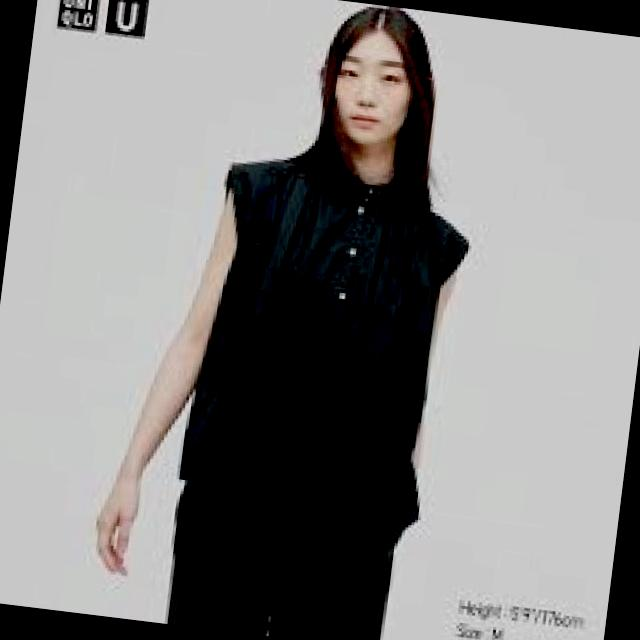no_vest: (176, 126, 483, 544)
